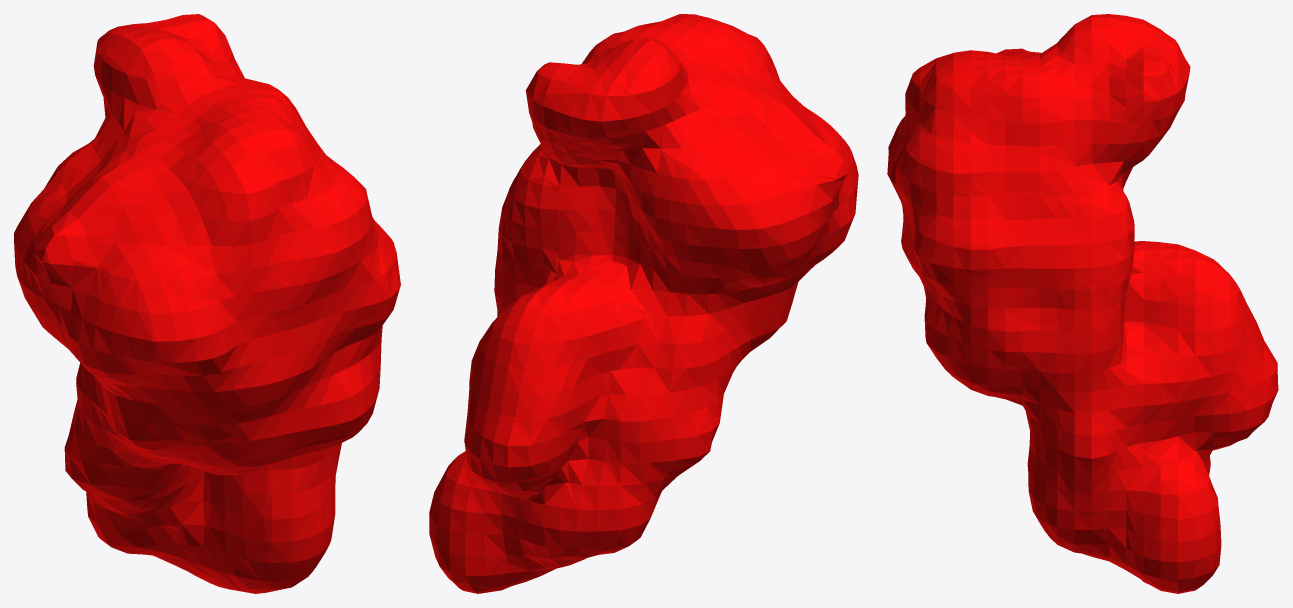
Rendered from fucR_coarse.dae.
3 views of the same model, side by side, from view 1: azimuth 30°, elevation 25°; view 2: azimuth 150°, elevation 25°; view 3: azimuth 270°, elevation 25° (orthographic). The views are drawn at different scales.
Visible parts, largest first — view 1: fucR; view 2: fucR; view 3: fucR.
Boxes of the visible parts, bbox=[...] form: fucR: bbox=[14, 14, 400, 593]; fucR: bbox=[429, 14, 858, 593]; fucR: bbox=[887, 14, 1278, 593].
Bounding box in the file's own units: 44.37 × 72.19 × 49.53.
